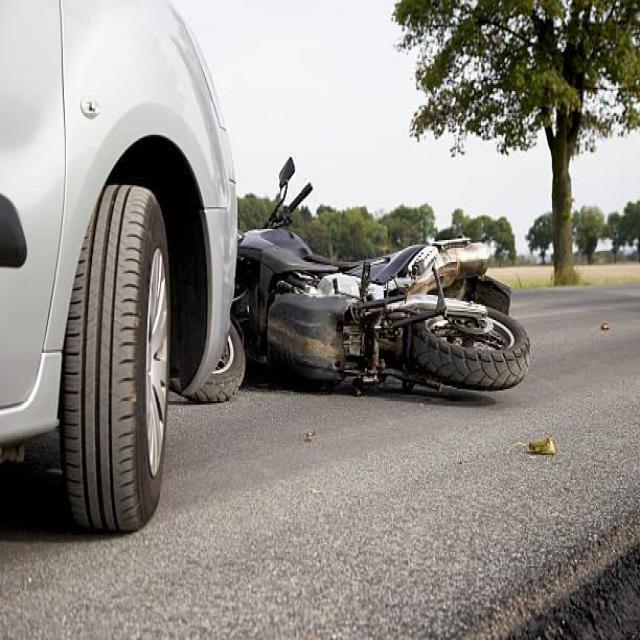Nguy hiểm: (115, 0, 540, 540)
